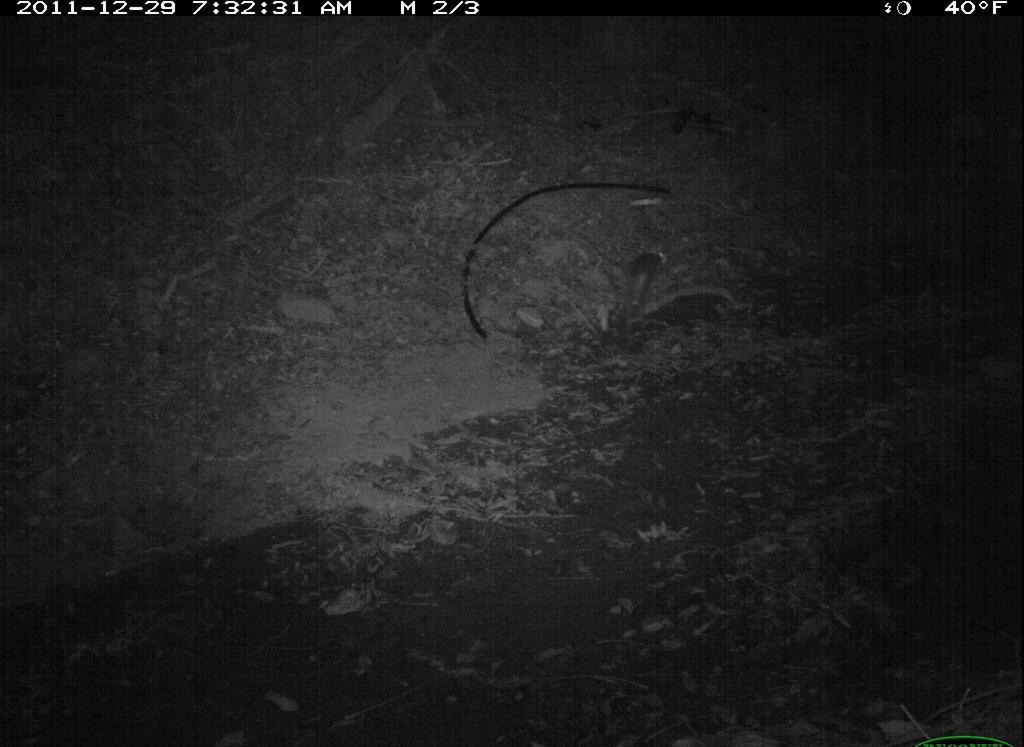rabbit: (612, 243, 672, 323)
